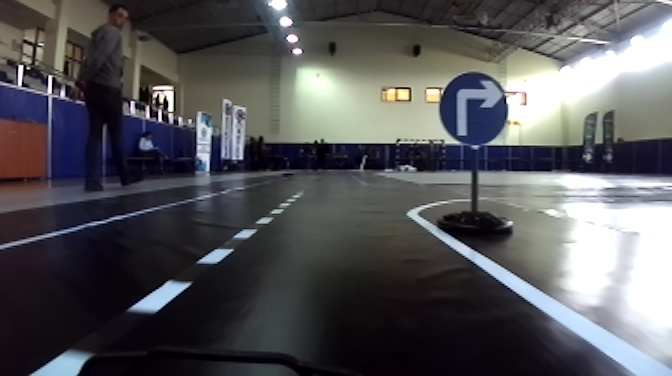saga_donus: (441, 72, 509, 142)
